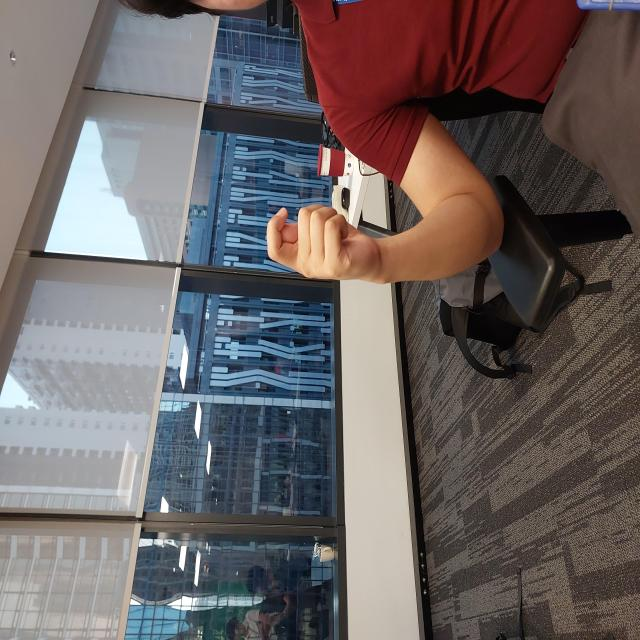T: (356, 266, 441, 382)
